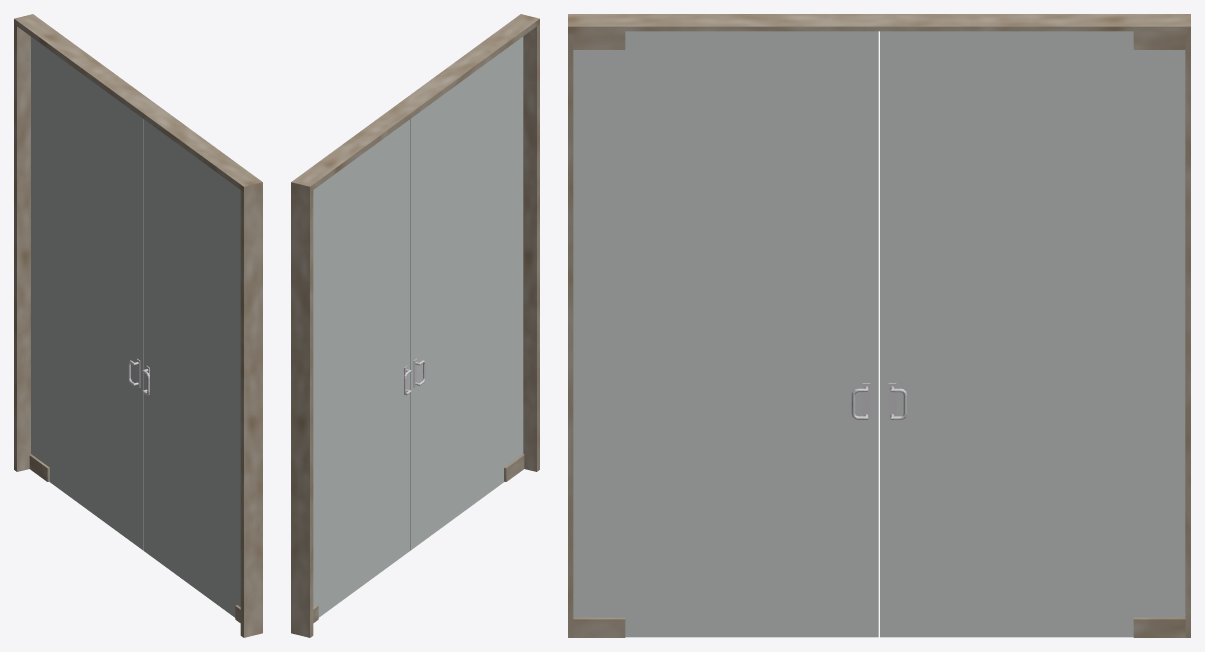
The model's file is Door_Main.fbx.
The picture shows the model from 3 angles, left to right: view 1: azimuth 30°, elevation 25°; view 2: azimuth 150°, elevation 25°; view 3: azimuth 270°, elevation 25°; orthographic projection. The views are drawn at different scales.
Parts seen in each view (by area): view 1: Box001, Box002, DOO - 018; view 2: Box002, Box001, DOO - 018; view 3: Box001, Box002, DOO - 018.
Part boxes in pixels (box(x1,y1,x2,y2)): Box001: box(29, 37, 143, 550); Box002: box(142, 119, 240, 622); DOO - 018: box(14, 14, 262, 637); Box002: box(410, 36, 524, 550); Box001: box(313, 119, 411, 623); DOO - 018: box(291, 14, 539, 637); Box001: box(880, 31, 1185, 637); Box002: box(573, 31, 878, 637); DOO - 018: box(568, 14, 1190, 637).
Size of the model in its own units: 13.5 by 260 by 240.
